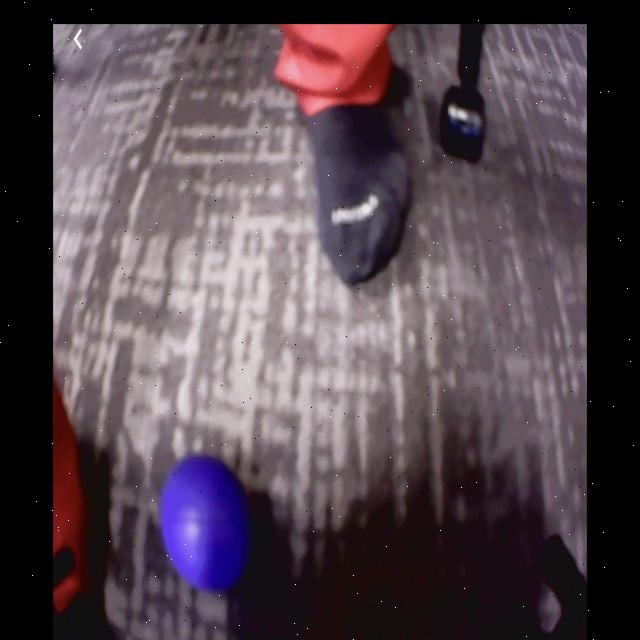ball: (159, 453, 252, 593)
